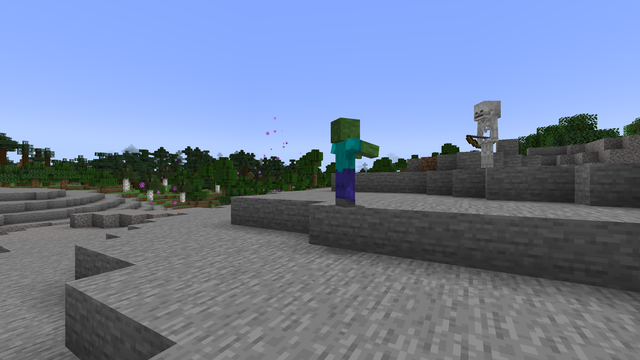squelettes: (475, 99, 499, 167)
zombies: (327, 118, 361, 207)
